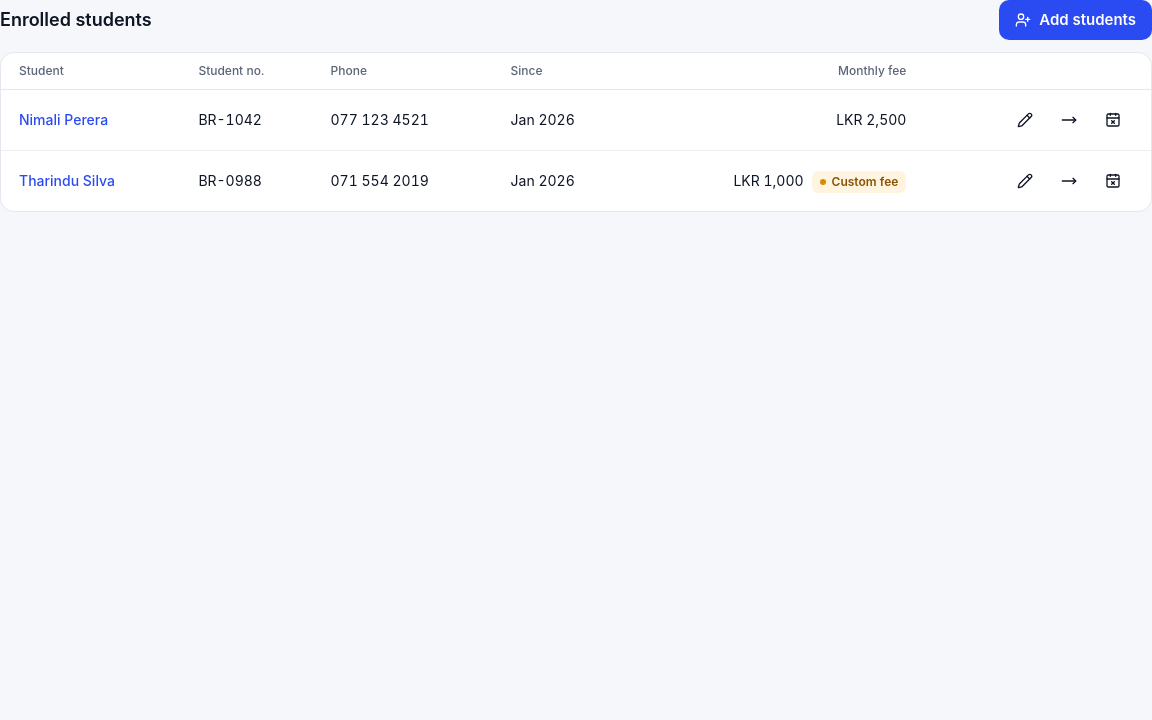
it: ClassStudentsPanel › add students: a failed search says so
Click the button "Add students".
click(1076, 20)  # box [999,0,1151,40]
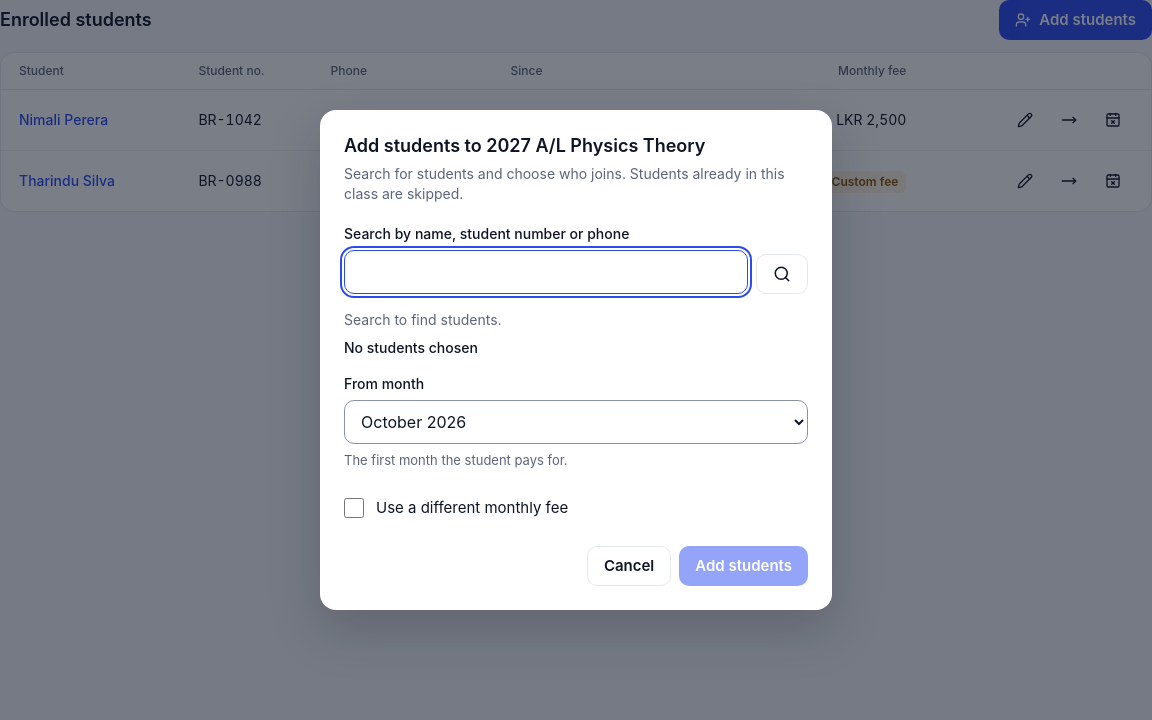
Type "x" into the search field labelled "Search by name, student number or phone".
click(546, 272); type("x")  # box [344,250,748,294]
Then press Enter
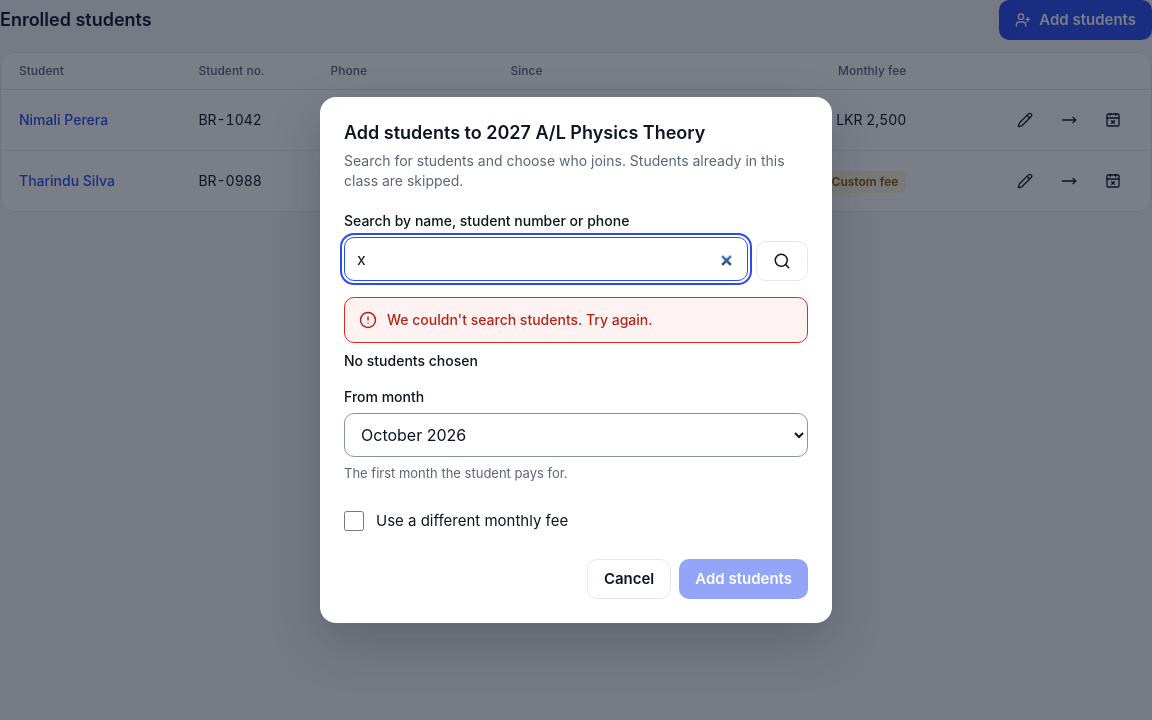
Expected: the message "We couldn't search students. Try again." is shown, [344,297,808,343]
